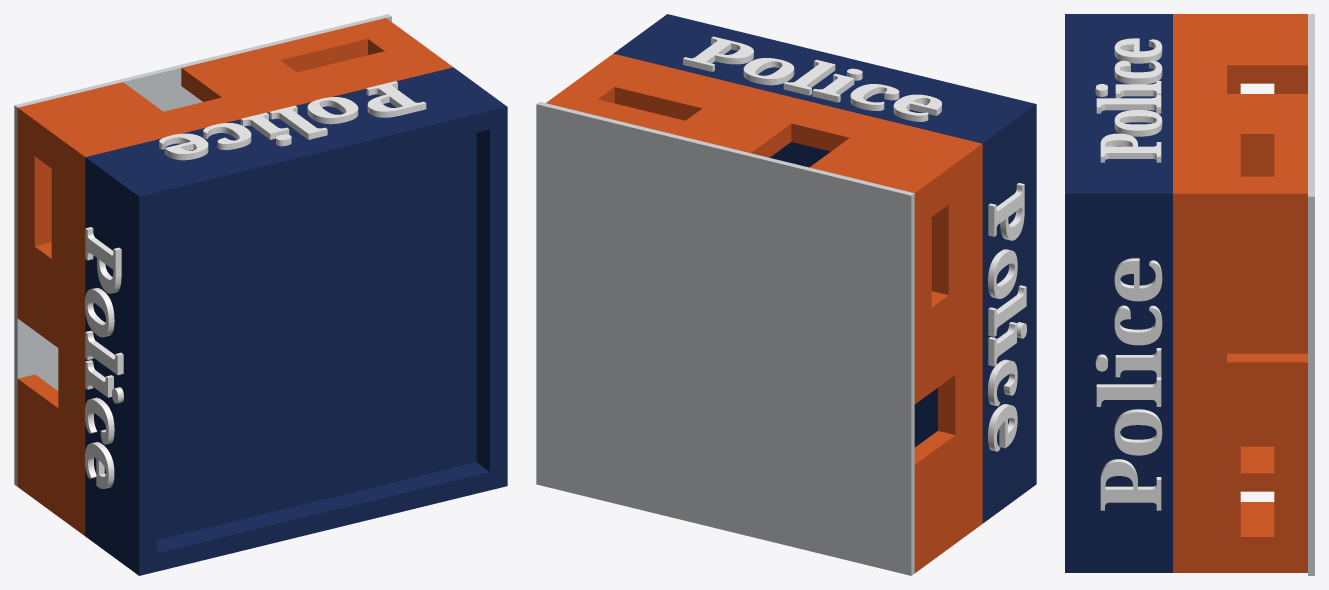
File: Police Precinct.obj
The picture shows the model from 3 angles, left to right: view 1: azimuth 30°, elevation 25°; view 2: azimuth 150°, elevation 25°; view 3: azimuth 270°, elevation 25°; orthographic projection.
Visible parts, largest first — view 1: obj_4, obj_1, obj_26, obj_10, obj_18, obj_2, obj_27, obj_33, obj_30, obj_29, obj_5, obj_28 (+9 smaller); view 2: obj_33, obj_1, obj_26, obj_2, obj_28, obj_29, obj_5, obj_6, obj_27, obj_3, obj_30, obj_25 (+8 smaller); view 3: obj_18, obj_1, obj_19, obj_22, obj_20, obj_2, obj_21, obj_17, obj_6, obj_5, obj_27, obj_8 (+12 smaller).
Boxes of the visible parts, bbox=[...] form: obj_4: bbox=[156, 133, 476, 539]; obj_1: bbox=[85, 67, 507, 214]; obj_26: bbox=[85, 154, 156, 575]; obj_10: bbox=[85, 462, 504, 575]; obj_18: bbox=[438, 67, 507, 486]; obj_2: bbox=[17, 82, 189, 174]; obj_27: bbox=[17, 374, 85, 535]; obj_33: bbox=[14, 14, 391, 486]; obj_30: bbox=[51, 139, 85, 367]; obj_29: bbox=[85, 227, 123, 488]; obj_5: bbox=[159, 81, 426, 160]; obj_28: bbox=[58, 246, 85, 469]; obj_33: bbox=[536, 102, 914, 575]; obj_1: bbox=[614, 14, 1036, 161]; obj_26: bbox=[965, 100, 1036, 517]; obj_2: bbox=[809, 118, 982, 211]; obj_28: bbox=[938, 252, 982, 476]; obj_29: bbox=[988, 183, 1026, 451]; obj_5: bbox=[683, 36, 941, 121]; obj_6: bbox=[585, 55, 812, 145]; obj_27: bbox=[914, 416, 982, 571]; obj_3: bbox=[692, 79, 914, 151]; obj_30: bbox=[931, 150, 982, 378]; obj_25: bbox=[914, 187, 931, 404]; obj_18: bbox=[1065, 187, 1172, 572]; obj_1: bbox=[1065, 14, 1172, 211]; obj_19: bbox=[1173, 186, 1307, 301]; obj_22: bbox=[1173, 353, 1240, 566]; obj_20: bbox=[1173, 260, 1226, 464]; obj_2: bbox=[1173, 14, 1307, 83]; obj_21: bbox=[1095, 258, 1162, 510]; obj_17: bbox=[1274, 353, 1307, 566]; obj_6: bbox=[1173, 94, 1240, 190]; obj_5: bbox=[1095, 38, 1162, 162]; obj_27: bbox=[1227, 302, 1307, 353]; obj_8: bbox=[1173, 176, 1307, 211].
Size of the model in its own units: 65 by 64 by 37.
